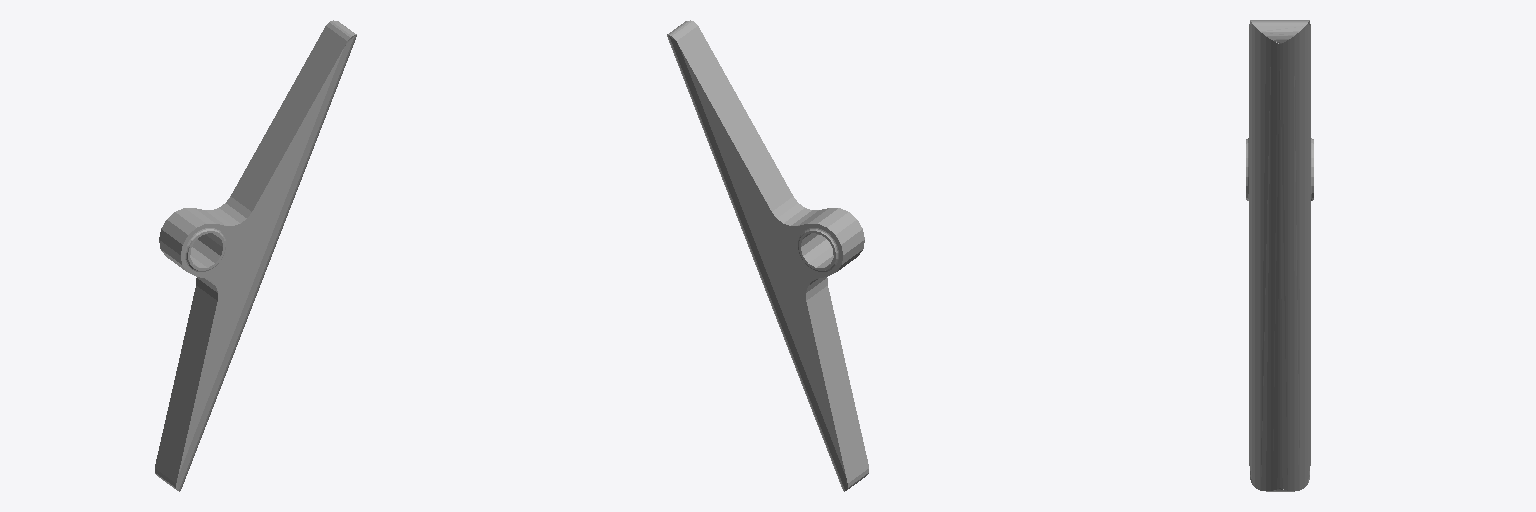
robot.urdf — robot_urdf_2023_02_20_v3:
<?xml version="1.0" encoding="utf-8"?>
<!-- This URDF was automatically created by SolidWorks to URDF Exporter! Originally created by [author] ([email redacted]) 
     Commit Version: 1.6.0-4-g7f85cfe  Build Version: 1.6.7995.38578
     For more information, please see http://wiki.ros.org/sw_urdf_exporter -->
<robot
  name="robot_urdf_2023_02_20_v3">
    <mujoco>
        <compiler 
        meshdir="../meshes/" 
        balanceinertia="true" 
        discardvisual="false" />
  </mujoco>
  
  <link
    name="base_link">
    <inertial>
      <origin
        xyz="-0.0448709592682472 -0.00330083392235171 0.0716121411080205"
        rpy="0 0 0" />
      <mass
        value="2.12328496021261" />
      <inertia
        ixx="0.00628451938896953"
        ixy="9.03731456394113E-06"
        ixz="3.74558764975459E-05"
        iyy="0.00292007116050446"
        iyz="2.33861350301923E-09"
        izz="0.00751646623969033" />
    </inertial>
    <visual>
      <origin
        xyz="0 0 0"
        rpy="0 0 0" />
      <geometry>
        <mesh
          filename="package://robot_urdf_2023_02_20_v3/meshes/base_link.STL" />
      </geometry>
      <material
        name="">
        <color
          rgba="0.752941176470588 0.752941176470588 0.752941176470588 1" />
      </material>
    </visual>
    <collision>
      <origin
        xyz="0 0 0"
        rpy="0 0 0" />
      <geometry>
        <mesh
          filename="package://robot_urdf_2023_02_20_v3/meshes/base_link.STL" />
      </geometry>
    </collision>
  </link>
  <link
    name="R_HIP">
    <inertial>
      <origin
        xyz="0.0219446414797471 2.88517182367443E-09 -0.03039168184157"
        rpy="0 0 0" />
      <mass
        value="0.0629568480892821" />
      <inertia
        ixx="5.16473545517217E-05"
        ixy="-3.57588662689144E-11"
        ixz="4.61970829805285E-05"
        iyy="0.000152966439888968"
        iyz="6.07063380591114E-12"
        izz="0.000116288804420767" />
    </inertial>
    <visual>
      <origin
        xyz="0 0 0"
        rpy="0 0 0" />
      <geometry>
        <mesh
          filename="package://robot_urdf_2023_02_20_v3/meshes/R_HIP.STL" />
      </geometry>
      <material
        name="">
        <color
          rgba="0.698039215686274 0.698039215686274 0.698039215686274 0.25" />
      </material>
    </visual>
    <collision>
      <origin
        xyz="0 0 0"
        rpy="0 0 0" />
      <geometry>
        <mesh
          filename="package://robot_urdf_2023_02_20_v3/meshes/R_HIP.STL" />
      </geometry>
    </collision>
  </link>
  <joint
    name="R_YAW"
    type="revolute">
    <origin
      xyz="0 -0.07 -0.005"
      rpy="0 0 0" />
    <parent
      link="base_link" />
    <child
      link="R_HIP" />
    <axis
      xyz="0 0 1" />
    <limit
      lower="-0.3"
      upper="0.3"
      effort="1000"
      velocity="1000" />
  </joint>
  <link
    name="R_SHOULDER">
    <inertial>
      <origin
        xyz="-0.0382844310441066 0.0118964401352487 0.00123886924581128"
        rpy="0 0 0" />
      <mass
        value="0.588643548762149" />
      <inertia
        ixx="0.000521980550813748"
        ixy="-9.26088822864709E-07"
        ixz="4.06359835642879E-06"
        iyy="0.000511051697800316"
        iyz="4.33469818121015E-06"
        izz="0.000392251171822902" />
    </inertial>
    <visual>
      <origin
        xyz="0 0 0"
        rpy="0 0 0" />
      <geometry>
        <mesh
          filename="package://robot_urdf_2023_02_20_v3/meshes/R_SHOULDER.STL" />
      </geometry>
      <material
        name="">
        <color
          rgba="0.698039215686274 0.698039215686274 0.698039215686274 1" />
      </material>
    </visual>
    <collision>
      <origin
        xyz="0 0 0"
        rpy="0 0 0" />
      <geometry>
        <mesh
          filename="package://robot_urdf_2023_02_20_v3/meshes/R_SHOULDER.STL" />
      </geometry>
    </collision>
  </link>
  <joint
    name="R_HAA"
    type="revolute">
    <origin
      xyz="0.0069 0 -0.081"
      rpy="0 0 0" />
    <parent
      link="R_HIP" />
    <child
      link="R_SHOULDER" />
    <axis
      xyz="1 0 0" />
    <limit
      lower="-0.25"
      upper="0.25"
      effort="1000"
      velocity="1000" />
  </joint>
  <link
    name="R_UPPER_LEG">
    <inertial>
      <origin
        xyz="0.000620534060432716 -0.0534946435046088 -0.0454640558620235"
        rpy="0 0 0" />
      <mass
        value="0.55166454462452" />
      <inertia
        ixx="0.00152517707561619"
        ixy="7.61908484564392E-07"
        ixz="-7.58552183552755E-07"
        iyy="0.00177977903535468"
        iyz="-1.40084073294317E-05"
        izz="0.00034816857217676" />
    </inertial>
    <visual>
      <origin
        xyz="0 0 0"
        rpy="0 0 0" />
      <geometry>
        <mesh
          filename="package://robot_urdf_2023_02_20_v3/meshes/R_UPPER_LEG.STL" />
      </geometry>
      <material
        name="">
        <color
          rgba="0.698039215686274 0.698039215686274 0.698039215686274 1" />
      </material>
    </visual>
    <collision>
      <origin
        xyz="0 0 0"
        rpy="0 0 0" />
      <geometry>
        <mesh
          filename="package://robot_urdf_2023_02_20_v3/meshes/R_UPPER_LEG.STL" />
      </geometry>
    </collision>
  </link>
  <joint
    name="R_HFE"
    type="revolute">
    <origin
      xyz="0 0 0"
      rpy="0 0 0" />
    <parent
      link="R_SHOULDER" />
    <child
      link="R_UPPER_LEG" />
    <axis
      xyz="0 1 0" />
    <limit
      lower="-1.5"
      upper="1.5"
      effort="1000"
      velocity="1000" />
  </joint>
  <link
    name="R_LOWER_LEG">
    <inertial>
      <origin
        xyz="8.90943035473588E-06 0.0171035437362773 -0.111753901368554"
        rpy="0 0 0" />
      <mass
        value="0.0923618682215971" />
      <inertia
        ixx="0.000437183481260274"
        ixy="-1.07399882823237E-08"
        ixz="1.2919531348441E-08"
        iyy="0.000437218894302395"
        iyz="1.30274858435484E-06"
        izz="1.55764253409593E-05" />
    </inertial>
    <visual>
      <origin
        xyz="0 0 0"
        rpy="0 0 0" />
      <geometry>
        <mesh
          filename="package://robot_urdf_2023_02_20_v3/meshes/R_LOWER_LEG.STL" />
      </geometry>
      <material
        name="">
        <color
          rgba="1 1 1 1" />
      </material>
    </visual>
    <collision>
      <origin
        xyz="0 0 0"
        rpy="0 0 0" />
      <geometry>
        <mesh
          filename="package://robot_urdf_2023_02_20_v3/meshes/R_LOWER_LEG.STL" />
      </geometry>
    </collision>
  </link>
  <joint
    name="R_KFE"
    type="revolute">
    <origin
      xyz="0 -0.0584 -0.23405"
      rpy="0 0 0" />
    <parent
      link="R_UPPER_LEG" />
    <child
      link="R_LOWER_LEG" />
    <axis
      xyz="0 1 0" />
    <limit
      lower="-2.2"
      upper="-0.1"
      effort="1000"
      velocity="1000" />
  </joint>
  <link
    name="R_FOOT">
    <inertial>
      <origin
        xyz="-3.02321900789403E-05 2.36197425507179E-08 -0.0242542849058649"
        rpy="0 0 0" />
      <mass
        value="0.0313407448211579" />
      <inertia
        ixx="1.53505900340827E-06"
        ixy="3.21655852895147E-11"
        ixz="3.87851927561161E-09"
        iyy="3.35525061902405E-05"
        iyz="-1.30436886653959E-12"
        izz="3.3989583673629E-05" />
    </inertial>
    <visual>
      <origin
        xyz="0 0 0"
        rpy="0 0 0" />
      <geometry>
        <mesh
          filename="package://robot_urdf_2023_02_20_v3/meshes/R_FOOT.STL" />
      </geometry>
      <material
        name="">
        <color
          rgba="0.698039215686274 0.698039215686274 0.698039215686274 1" />
      </material>
    </visual>
    <collision>
      <origin
        xyz="0 0 0"
        rpy="0 0 0" />
      <geometry>
        <mesh
          filename="package://robot_urdf_2023_02_20_v3/meshes/R_FOOT.STL" />
      </geometry>
    </collision>
  </link>
  <joint
    name="R_ANKLE"
    type="revolute">
    <origin
      xyz="0 0.0168 -0.30826"
      rpy="0 0 0" />
    <parent
      link="R_LOWER_LEG" />
    <child
      link="R_FOOT" />
    <axis
      xyz="0 1 0" />
    <limit
      lower="-1.6"
      upper="1.6"
      effort="1000"
      velocity="1000" />
  </joint>
  <link
    name="L_HIP">
    <inertial>
      <origin
        xyz="0.0219446414797471 2.8851717404077E-09 -0.0303916818415699"
        rpy="0 0 0" />
      <mass
        value="0.0629568480892821" />
      <inertia
        ixx="5.16473545517217E-05"
        ixy="-3.57588662402191E-11"
        ixz="4.61970829805285E-05"
        iyy="0.000152966439888968"
        iyz="6.07063377409065E-12"
        izz="0.000116288804420767" />
    </inertial>
    <visual>
      <origin
        xyz="0 0 0"
        rpy="0 0 0" />
      <geometry>
        <mesh
          filename="package://robot_urdf_2023_02_20_v3/meshes/L_HIP.STL" />
      </geometry>
      <material
        name="">
        <color
          rgba="0.698039215686274 0.698039215686274 0.698039215686274 0.25" />
      </material>
    </visual>
    <collision>
      <origin
        xyz="0 0 0"
        rpy="0 0 0" />
      <geometry>
        <mesh
          filename="package://robot_urdf_2023_02_20_v3/meshes/L_HIP.STL" />
      </geometry>
    </collision>
  </link>
  <joint
    name="L_YAW"
    type="revolute">
    <origin
      xyz="0 0.07 -0.005"
      rpy="0 0 0" />
    <parent
      link="base_link" />
    <child
      link="L_HIP" />
    <axis
      xyz="0 0 1" />
    <limit
      lower="-0.3"
      upper="0.3"
      effort="1000"
      velocity="1000" />
  </joint>
  <link
    name="L_SHOULDER">
    <inertial>
      <origin
        xyz="-0.0382844310532301 -0.0118964398242502 0.00204771986272136"
        rpy="0 0 0" />
      <mass
        value="0.588643547253359" />
      <inertia
        ixx="0.000521980547134007"
        ixy="9.26094596161881E-07"
        ixz="4.0636070608477E-06"
        iyy="0.000511051694581175"
        iyz="4.33470011300503E-06"
        izz="0.000392251170952583" />
    </inertial>
    <visual>
      <origin
        xyz="0 0 0"
        rpy="0 0 0" />
      <geometry>
        <mesh
          filename="package://robot_urdf_2023_02_20_v3/meshes/L_SHOULDER.STL" />
      </geometry>
      <material
        name="">
        <color
          rgba="0.698039215686274 0.698039215686274 0.698039215686274 1" />
      </material>
    </visual>
    <collision>
      <origin
        xyz="0 0 0"
        rpy="0 0 0" />
      <geometry>
        <mesh
          filename="package://robot_urdf_2023_02_20_v3/meshes/L_SHOULDER.STL" />
      </geometry>
    </collision>
  </link>
  <joint
    name="L_HAA"
    type="revolute">
    <origin
      xyz="0.0069 0 -0.081"
      rpy="0 0 0" />
    <parent
      link="L_HIP" />
    <child
      link="L_SHOULDER" />
    <axis
      xyz="1 0 0" />
    <limit
      lower="-0.25"
      upper="0.25"
      effort="1000"
      velocity="1000" />
  </joint>
  <link
    name="L_UPPER_LEG">
    <inertial>
      <origin
        xyz="-0.000328851371267098 0.0508506776100633 -0.0528923575613315"
        rpy="0 0 0" />
      <mass
        value="0.544557667315214" />
      <inertia
        ixx="0.00110960756931559"
        ixy="7.62193303280925E-07"
        ixz="7.86366765052468E-07"
        iyy="0.00134742538778517"
        iyz="1.40083657004109E-05"
        izz="0.000337097363318948" />
    </inertial>
    <visual>
      <origin
        xyz="0 0 0"
        rpy="0 0 0" />
      <geometry>
        <mesh
          filename="package://robot_urdf_2023_02_20_v3/meshes/L_UPPER_LEG.STL" />
      </geometry>
      <material
        name="">
        <color
          rgba="0.898039215686275 0.917647058823529 0.929411764705882 1" />
      </material>
    </visual>
    <collision>
      <origin
        xyz="0 0 0"
        rpy="0 0 0" />
      <geometry>
        <mesh
          filename="package://robot_urdf_2023_02_20_v3/meshes/L_UPPER_LEG.STL" />
      </geometry>
    </collision>
  </link>
  <joint
    name="L_HFE"
    type="revolute">
    <origin
      xyz="0 0 0"
      rpy="0 0 0" />
    <parent
      link="L_SHOULDER" />
    <child
      link="L_UPPER_LEG" />
    <axis
      xyz="0 1 0" />
    <limit
      lower="-1.5"
      upper="1.5"
      effort="1000"
      velocity="1000" />
  </joint>
  <link
    name="L_LOWER_LEG">
    <inertial>
      <origin
        xyz="-8.90943035471766E-06 -0.0176035437362774 -0.111753901368554"
        rpy="0 0 0" />
      <mass
        value="0.0923618682215969" />
      <inertia
        ixx="0.000437183481260274"
        ixy="-1.07399882823297E-08"
        ixz="-1.2919531348486E-08"
        iyy="0.000437218894302394"
        iyz="-1.30274858435487E-06"
        izz="1.55764253409593E-05" />
    </inertial>
    <visual>
      <origin
        xyz="0 0 0"
        rpy="0 0 0" />
      <geometry>
        <mesh
          filename="package://robot_urdf_2023_02_20_v3/meshes/L_LOWER_LEG.STL" />
      </geometry>
      <material
        name="">
        <color
          rgba="1 1 1 1" />
      </material>
    </visual>
    <collision>
      <origin
        xyz="0 0 0"
        rpy="0 0 0" />
      <geometry>
        <mesh
          filename="package://robot_urdf_2023_02_20_v3/meshes/L_LOWER_LEG.STL" />
      </geometry>
    </collision>
  </link>
  <joint
    name="L_KFE"
    type="revolute">
    <origin
      xyz="0 0.0589 -0.23405"
      rpy="0 0 0" />
    <parent
      link="L_UPPER_LEG" />
    <child
      link="L_LOWER_LEG" />
    <axis
      xyz="0 1 0" />
    <limit
      lower="-2.2"
      upper="-0.1"
      effort="1000"
      velocity="0" />
  </joint>
  <link
    name="L_FOOT">
    <inertial>
      <origin
        xyz="3.02321900789168E-05 -2.36197425368401E-08 -0.0242542849058649"
        rpy="0 0 0" />
      <mass
        value="0.0313407448211584" />
      <inertia
        ixx="1.53505900340824E-06"
        ixy="3.21655852743234E-11"
        ixz="-3.8785192756102E-09"
        iyy="3.35525061902412E-05"
        iyz="1.30436886701454E-12"
        izz="3.39895836736297E-05" />
    </inertial>
    <visual>
      <origin
        xyz="0 0 0"
        rpy="0 0 0" />
      <geometry>
        <mesh
          filename="package://robot_urdf_2023_02_20_v3/meshes/L_FOOT.STL" />
      </geometry>
      <material
        name="">
        <color
          rgba="0.698039215686274 0.698039215686274 0.698039215686274 1" />
      </material>
    </visual>
    <collision>
      <origin
        xyz="0 0 0"
        rpy="0 0 0" />
      <geometry>
        <mesh
          filename="package://robot_urdf_2023_02_20_v3/meshes/L_FOOT.STL" />
      </geometry>
    </collision>
  </link>
  <joint
    name="L_ANKLE"
    type="revolute">
    <origin
      xyz="0 -0.0173 -0.30826"
      rpy="0 0 0" />
    <parent
      link="L_LOWER_LEG" />
    <child
      link="L_FOOT" />
    <axis
      xyz="0 1 0" />
    <limit
      lower="-1.6"
      upper="1.6"
      effort="1000"
      velocity="1000" />
  </joint>
</robot>

--- Facts derived from the render (not from the file) ---
Views: 3 orthographic renders of the robot side by side, from view 1: azimuth 30°, elevation 25°; view 2: azimuth 150°, elevation 25°; view 3: azimuth 270°, elevation 25°.
Model robot_urdf_2023_02_20_v3 with 11 links and 10 joints (10 revolute), rooted at base_link, posed joints at zero except 2 at the middle of their limits (R_KFE = -1.15, L_KFE = -1.15).
Links seen in each view (by area): view 1: R_FOOT; view 2: R_FOOT; view 3: R_FOOT.
Link boxes in pixels (x1,y1,x2,y2): R_FOOT: (155, 20, 356, 491); R_FOOT: (667, 20, 868, 491); R_FOOT: (1246, 20, 1313, 491).
Bounding box of the posed robot: 0.0448 × 0.01 × 0.0953 m (x, y, z).
Meshes: 11 distinct files referenced, 1 mesh visuals loaded (1 binary STL); not drawn: 10 (reference not matched to a file when rendering).